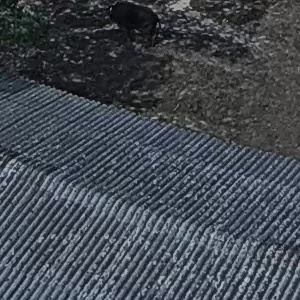cow: (101, 1, 174, 50)
